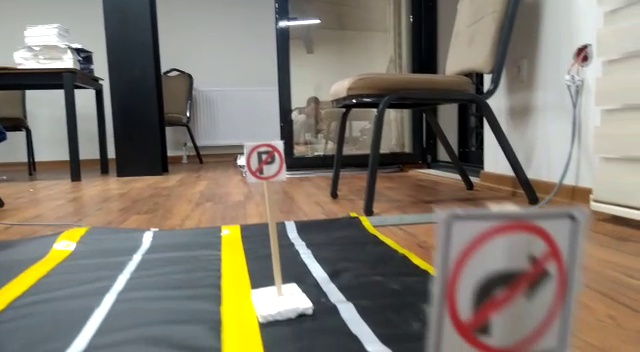park_yapilmaz: (243, 144, 285, 182)
saga_donulmez: (437, 210, 575, 351)
